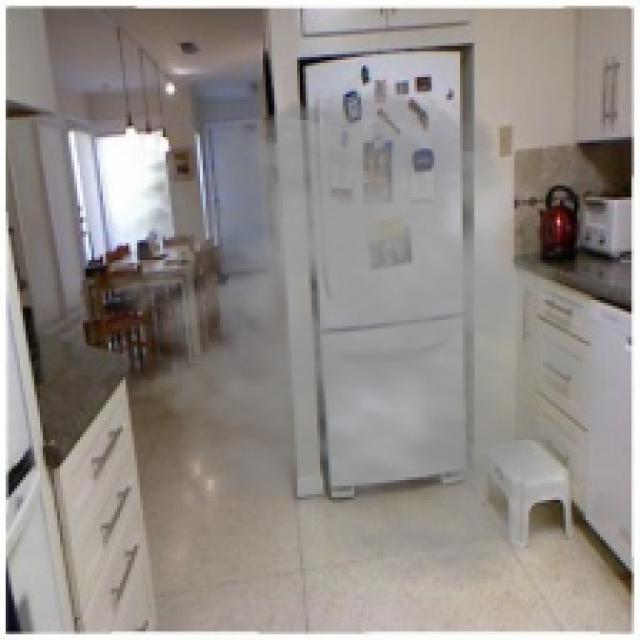Smoke: (85, 77, 638, 594)
